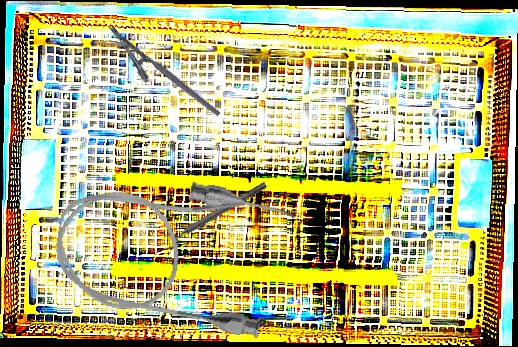Cannula: (46, 160, 297, 341)
Fixation Ring: (162, 177, 271, 251)
Needle Holder: (95, 23, 222, 132)
